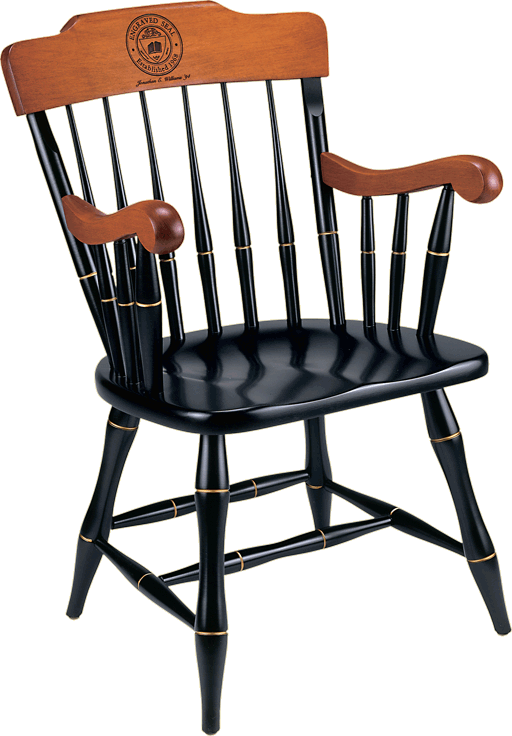chair: (1, 1, 506, 736)
